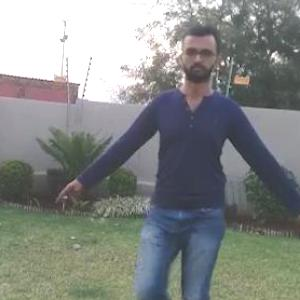land: (84, 55, 299, 299)
